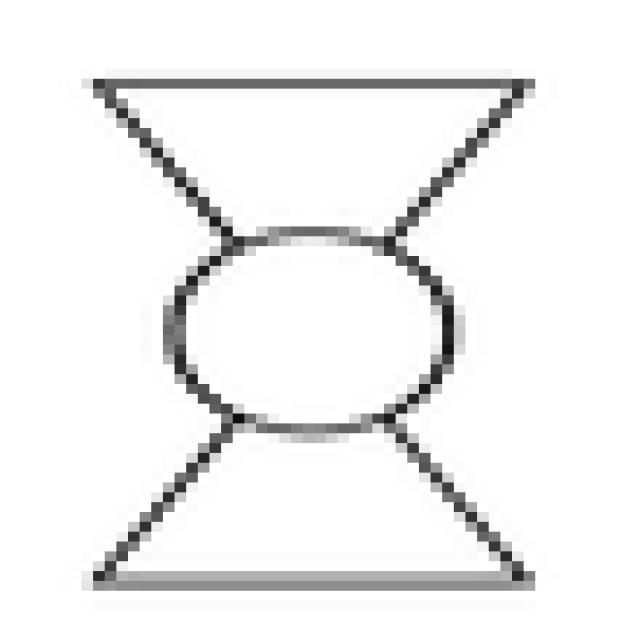ball valve: (79, 86, 532, 585)
